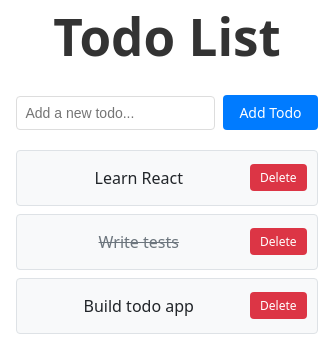
Test: TodoList Component › allows user to delete a todo
This screenshot has width=335, height=351.
Expected: the number of list items is 3, [16,150,318,206]; [16,214,318,270]; [16,278,318,334]
Expected: the text "Learn React" is shown, [94,167,183,189]
Click the button "Delete" next to "Learn React" at (278, 178), box [250,164,307,191]
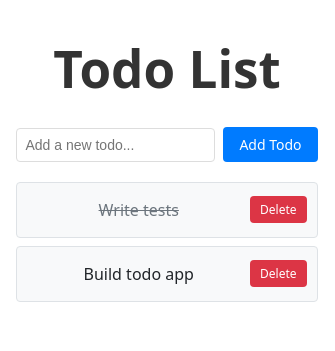
Expected: the number of list items is 2, [16,182,318,238]; [16,246,318,302]
Expected: the text "Learn React" is gone
